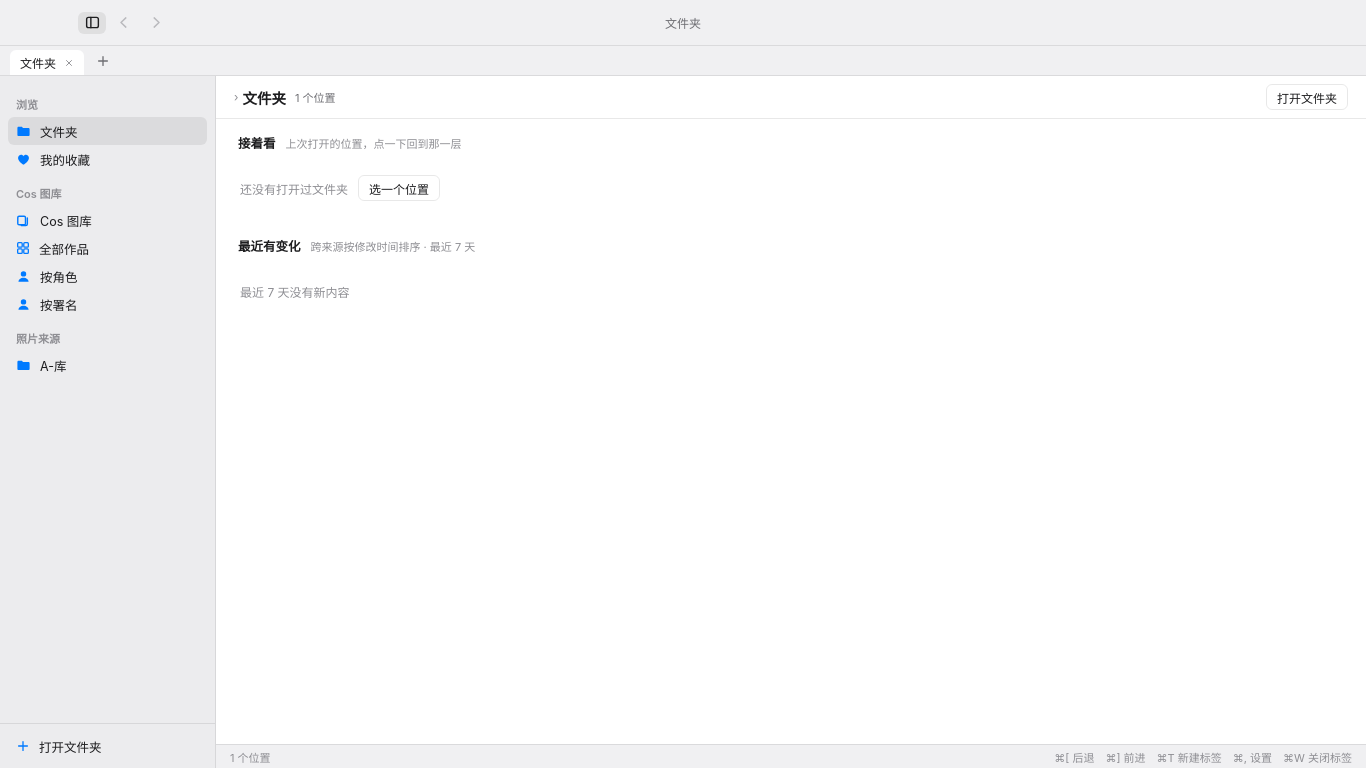
Test: App · Esc 分层（按页面层级，B 方案） › 菜单打开时 Esc 只关菜单，不导航
The image size is (1366, 768).
Expected: the element showing "文件夹" is shown, [0,46,1365,76]
Expected: the text "A-库" is shown, [40,356,66,374]
Step 1. Click the button "A-库" → (99, 365), box [8,351,190,379]
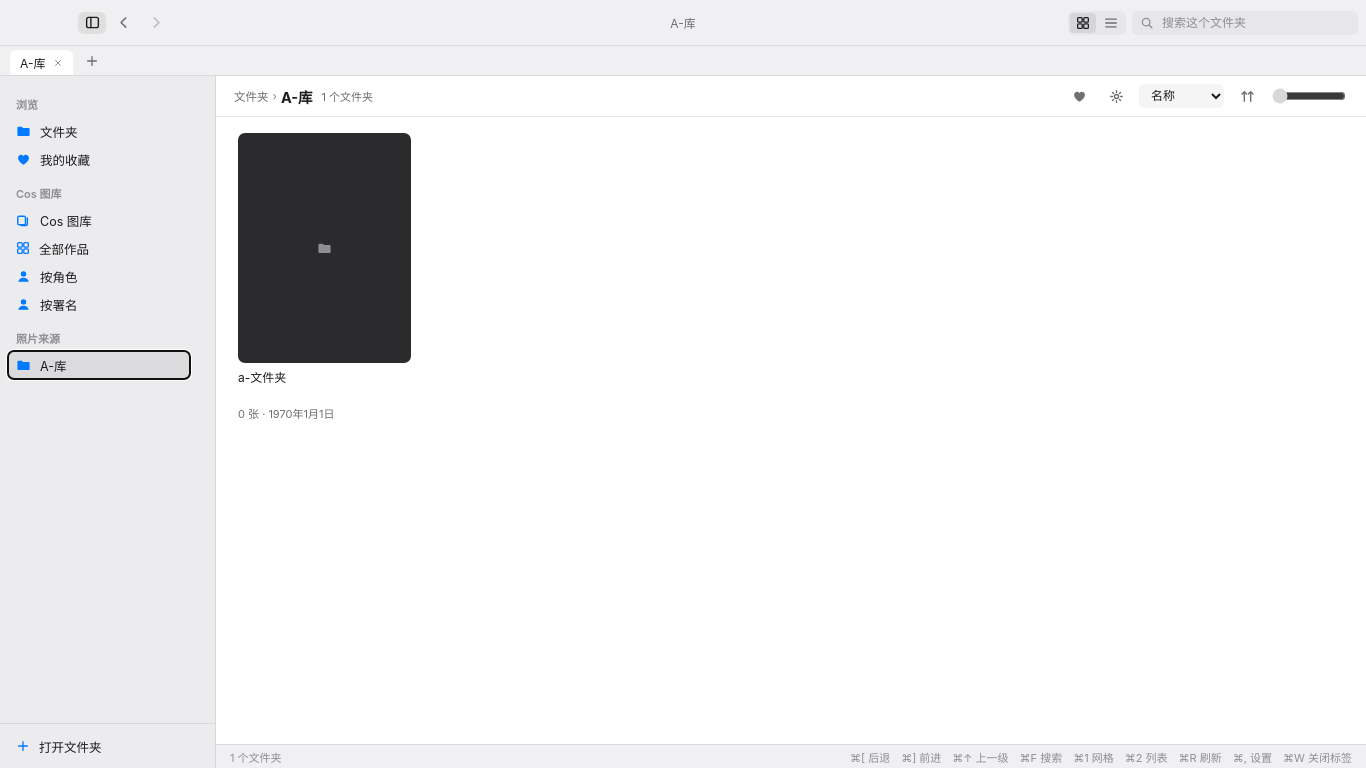
Result: the navigation bar named "面包屑" shows "A-库" at [281,88,312,106]
Result: the element with class "grid-card" is shown
Step 2. Click the element with class "grid-card" → (324, 277), box [238,133,411,421]
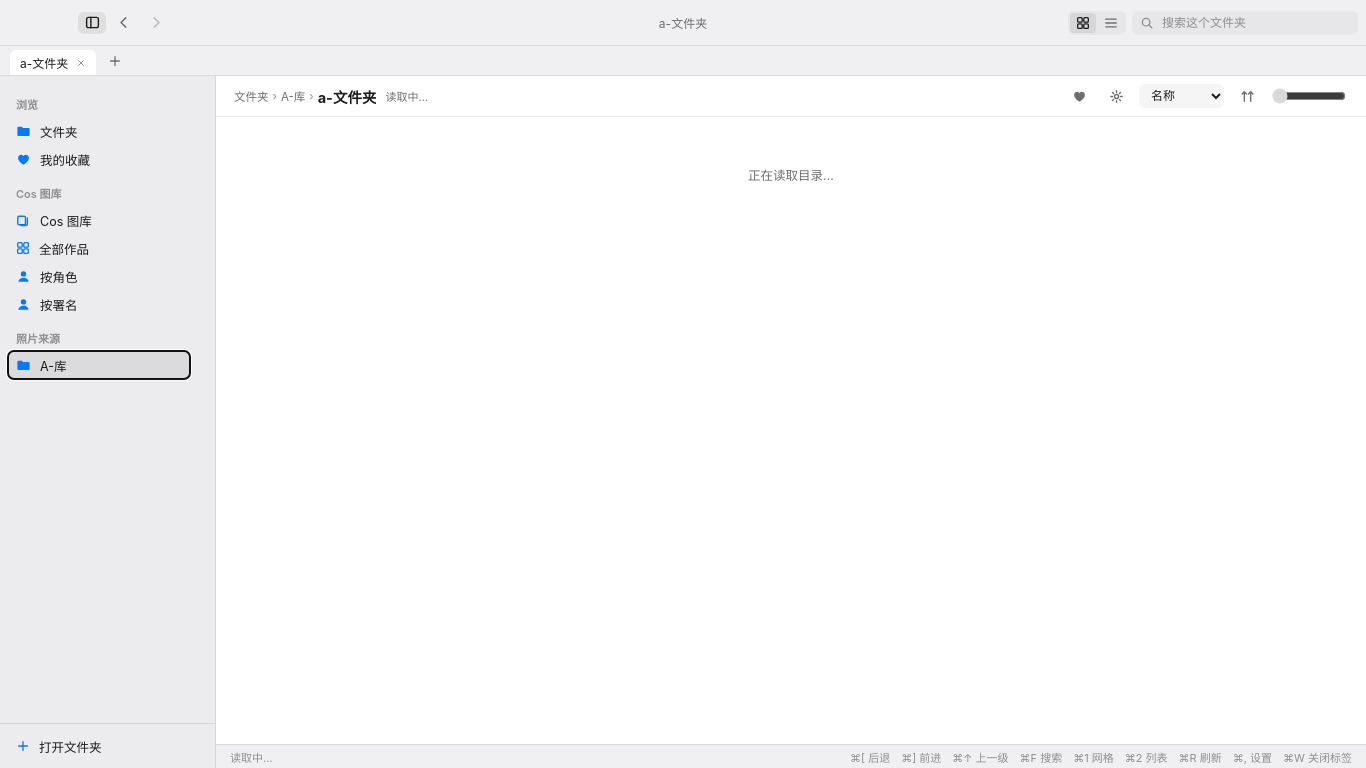
Result: the navigation bar named "面包屑" shows "a-文件夹" at [318,88,376,106]
Step 3. Right-click the tab "a-文件夹" → (53, 62), box [10,50,96,75]
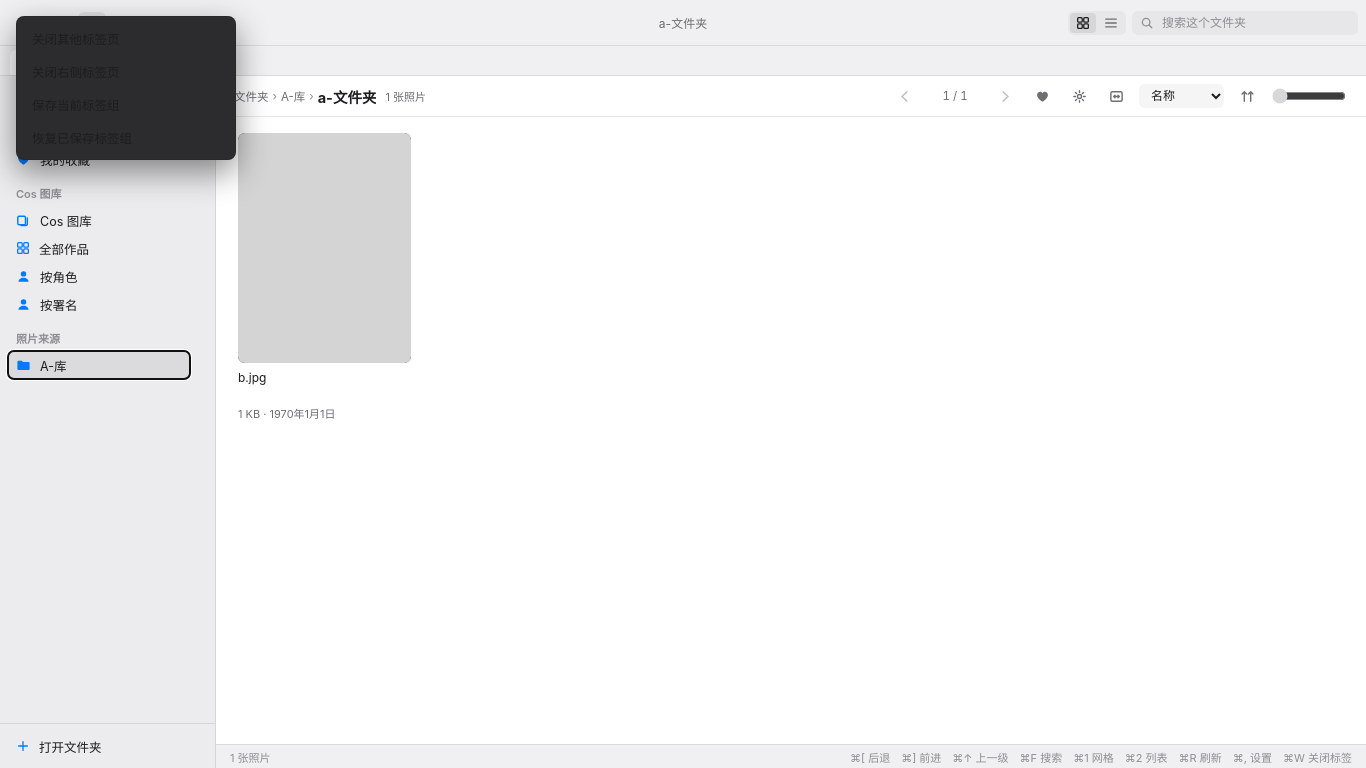
Result: the menu named "标签页菜单" is shown at [16,16,236,160]
Step 4. Press Escape
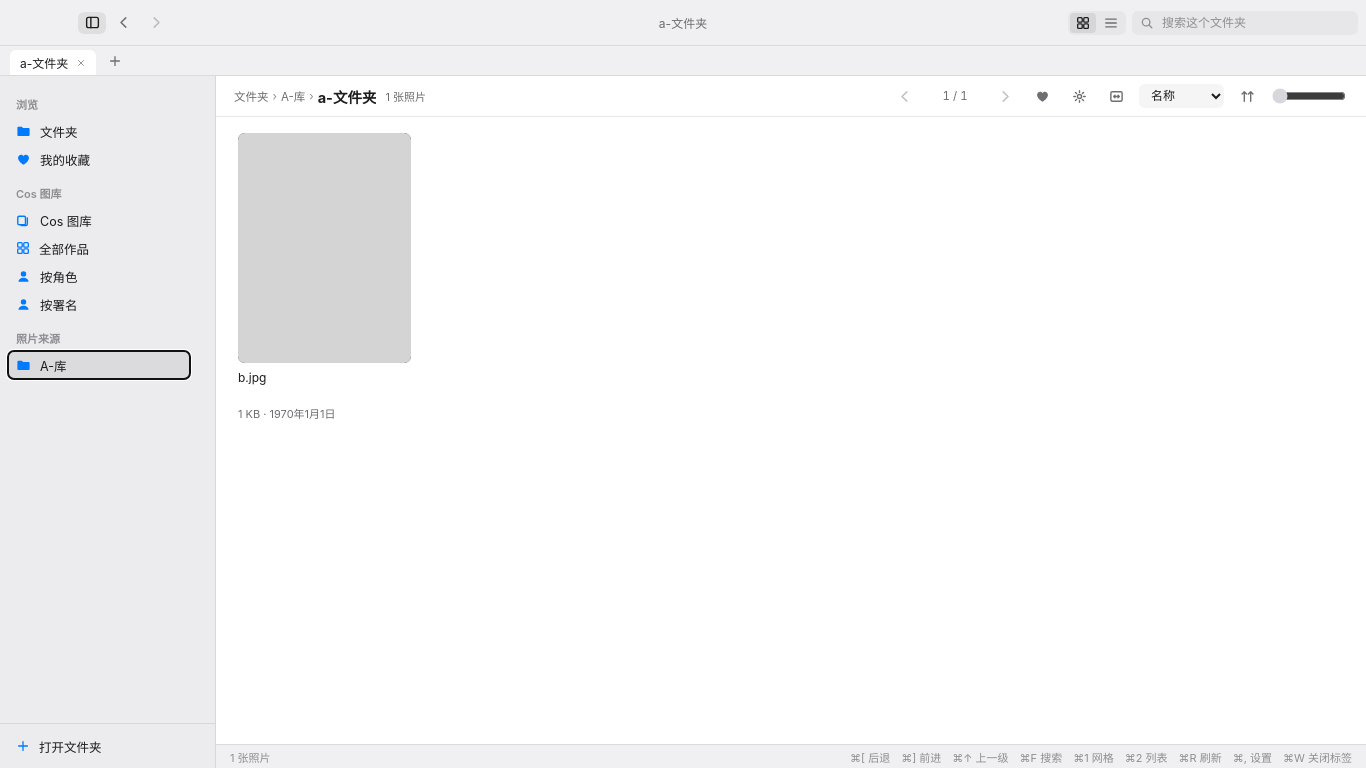
Expected: the number of tabs is 1, [10,50,96,75]
Result: the navigation bar named "面包屑" shows "a-文件夹" at [318,88,376,106]
Result: the menu is gone
